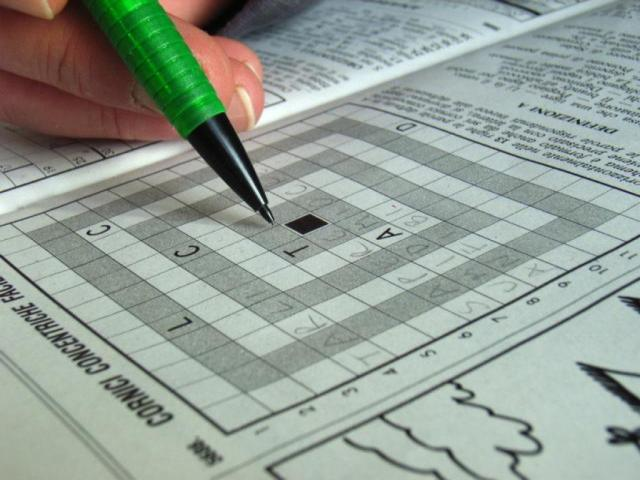PEN: (84, 0, 281, 229)
